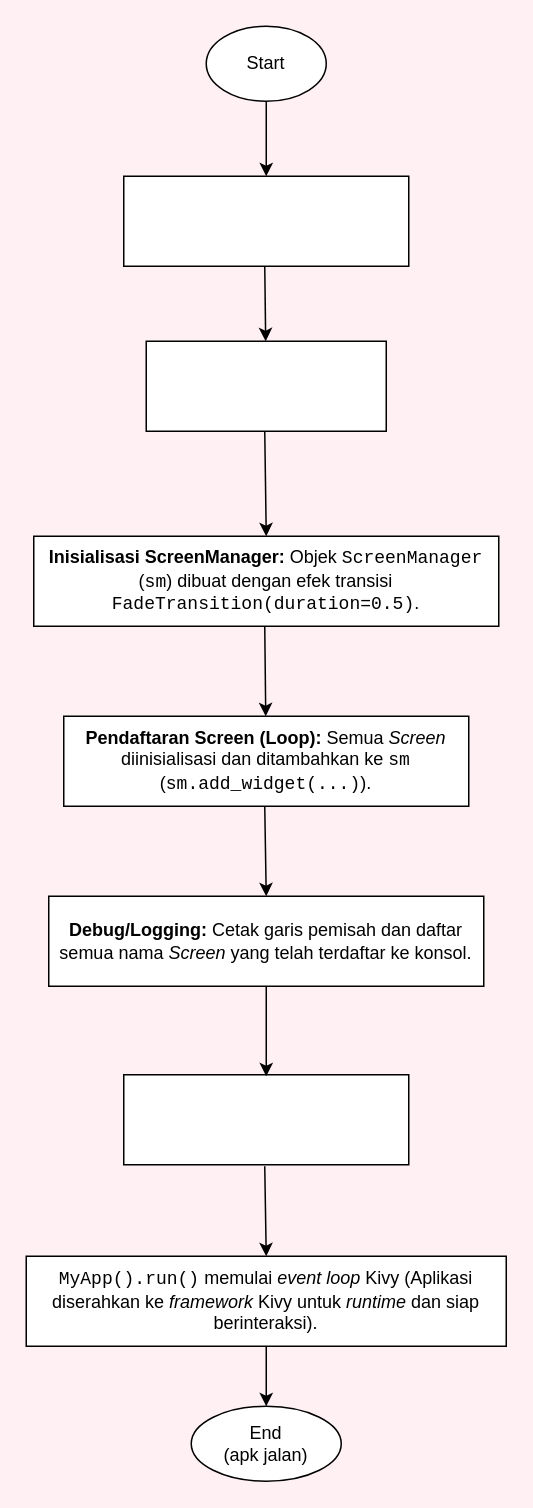
The diagram is 533 pixels wide and 1508 high, and some of its shapes have lost their labels. The shapes that lost their labels are listed below. From the top down, each one's centre as x and y in pixels, then its label:
At (265,220): "Inisialisasi Class MyApp : MyApp().run() dieksekusi, memicu metode build() .".
At (265,385): "Pengaturan Jendela: Window.size = (360, 640) .".
At (265,1119): "return sm (ScreenManager menjadi root widget aplikasi).".
